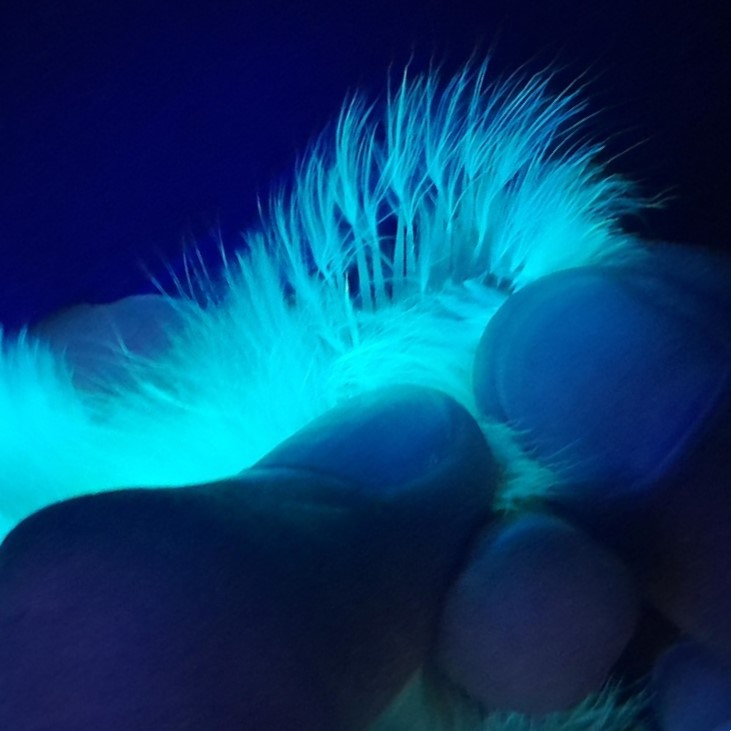male: (337, 175, 547, 348)
